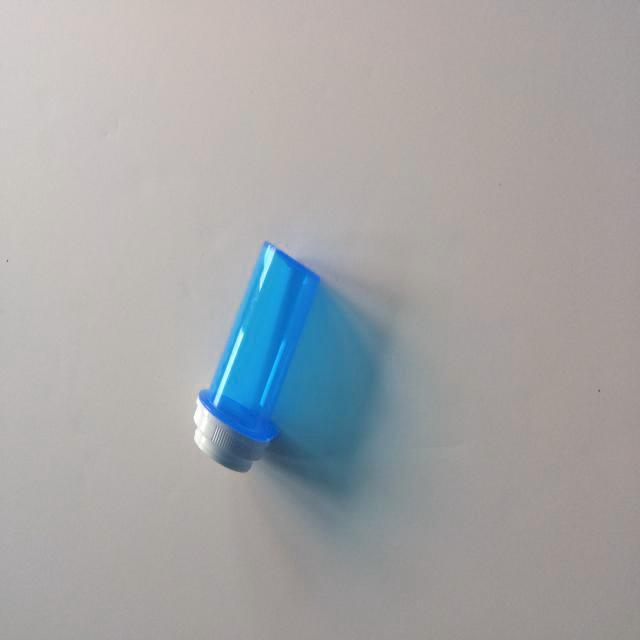plastic: (194, 241, 341, 484)
